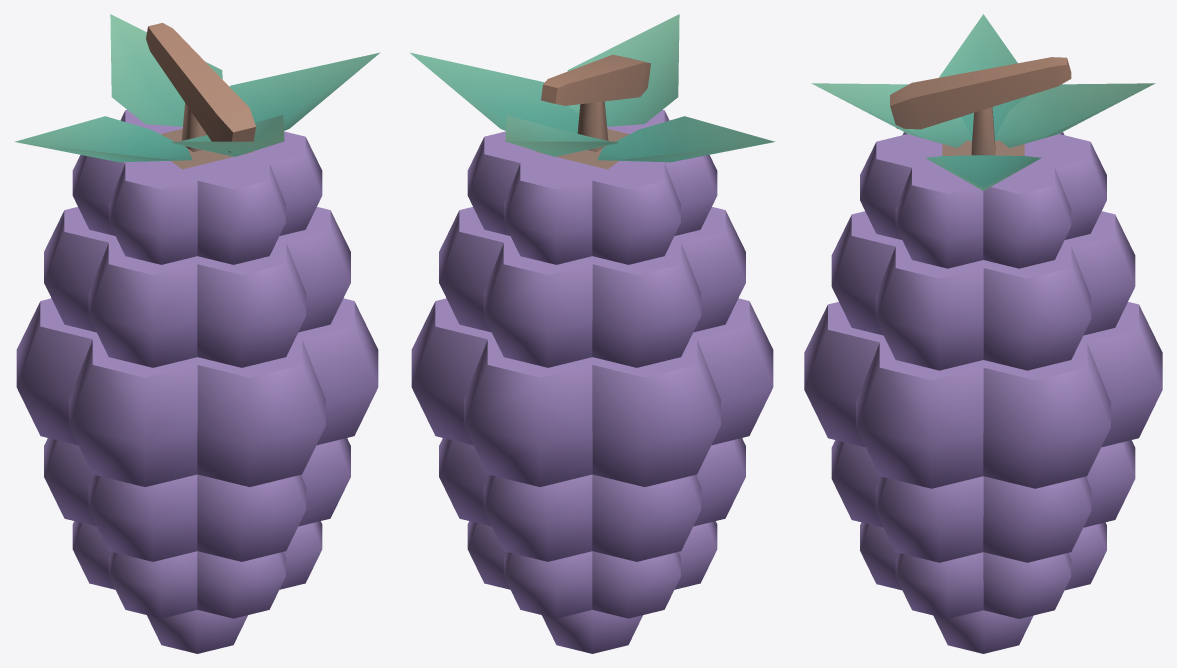
Rendered from grapes.glb.
3 renders of one model, left to right at view 1: azimuth 30°, elevation 25°; view 2: azimuth 150°, elevation 25°; view 3: azimuth 270°, elevation 25°, orthographic.
Parts seen in each view (by area): view 1: grapes; view 2: grapes; view 3: grapes.
Boxes of the visible parts, x1,y1,x2,y2 form: grapes: (14,14,379,653); grapes: (410,14,775,653); grapes: (804,14,1162,653).
Bounding box in the file's own units: 0.279 × 0.4226 × 0.2386.
